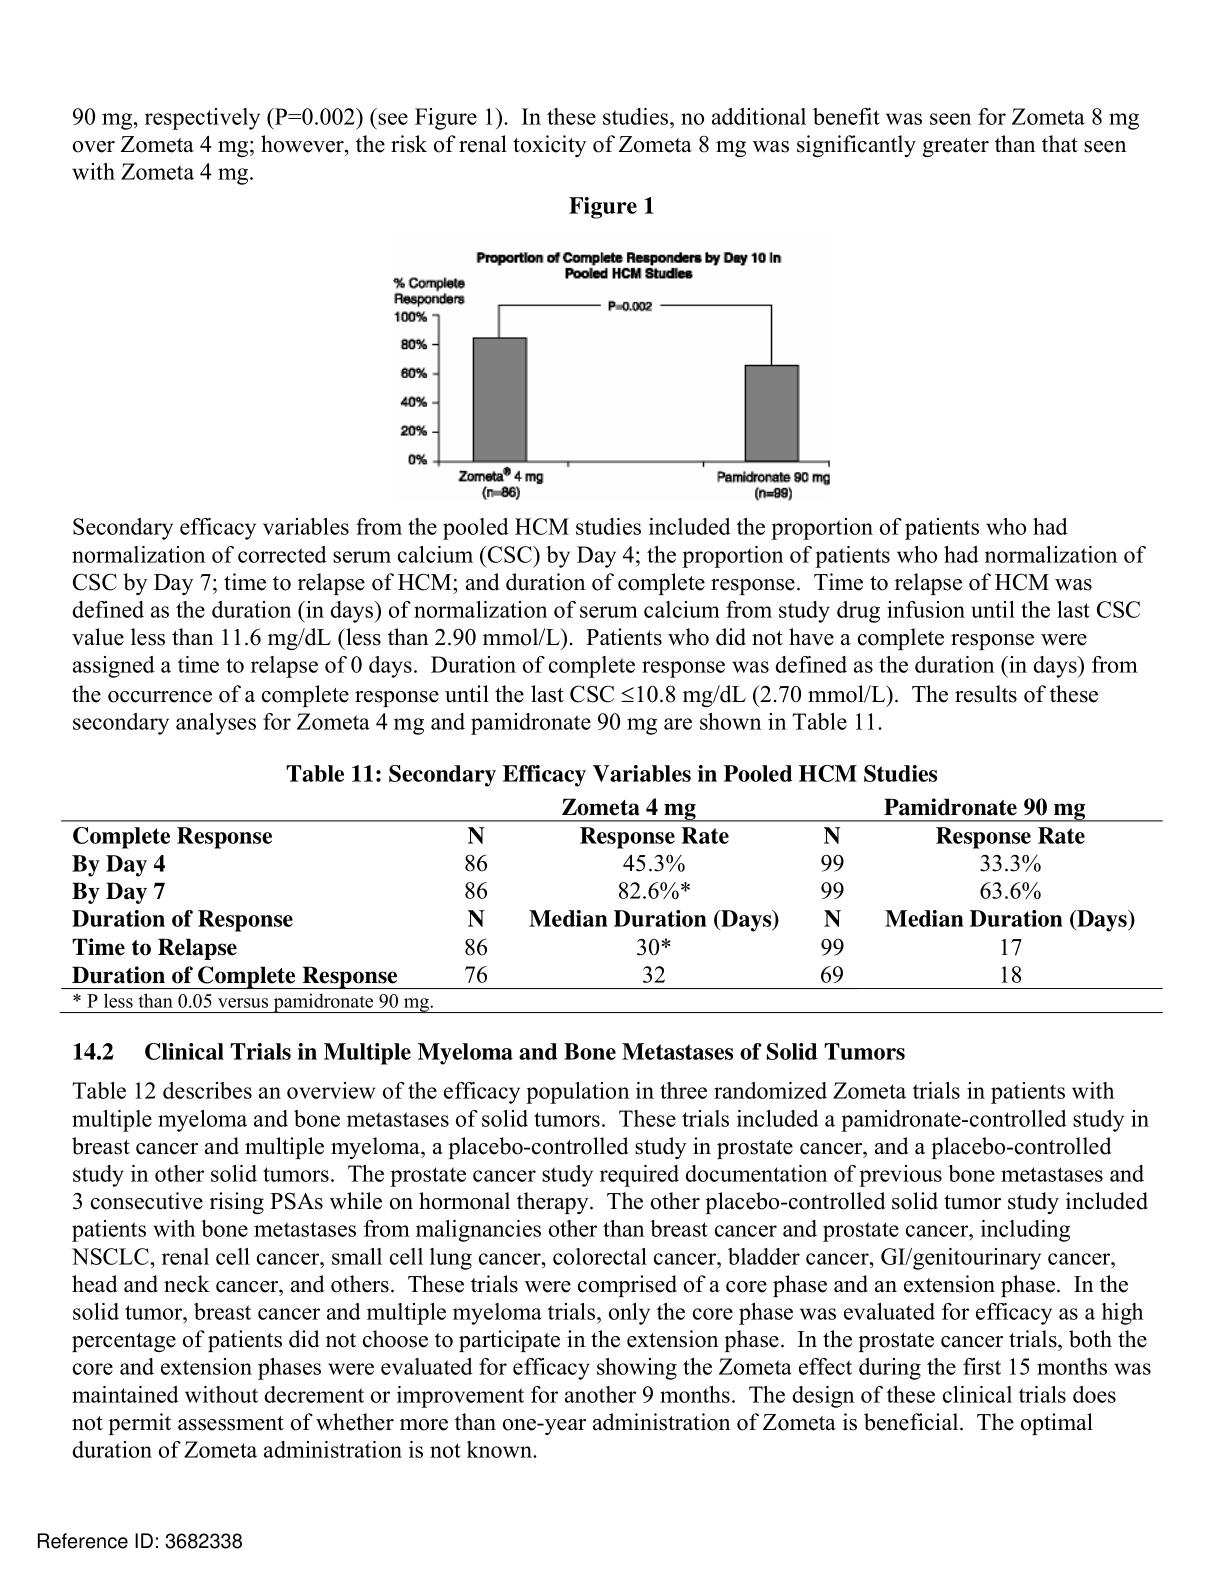partial_lined_merged_cells: (57, 789, 1167, 1016)
